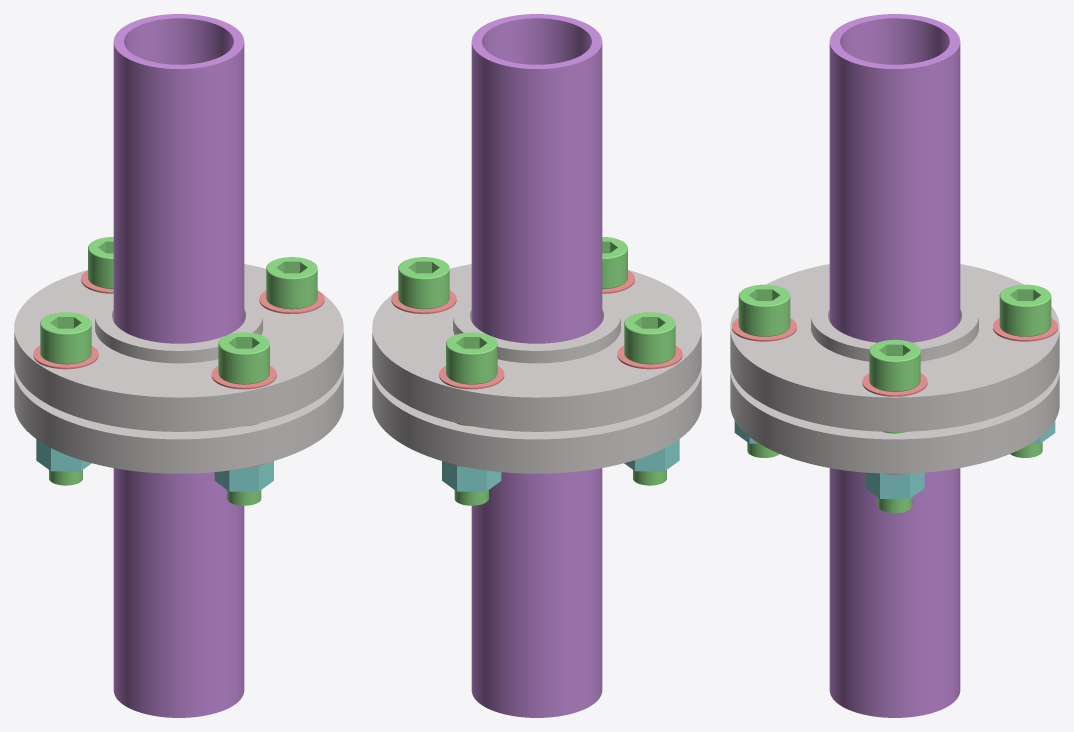
The model's file is pipe-flange-assembly.glb.
3 renders of one model, left to right at view 1: azimuth 30°, elevation 25°; view 2: azimuth 150°, elevation 25°; view 3: azimuth 270°, elevation 25°, orthographic.
Size of the model in its own units: 0.1524 by 0.331 by 0.1524.
